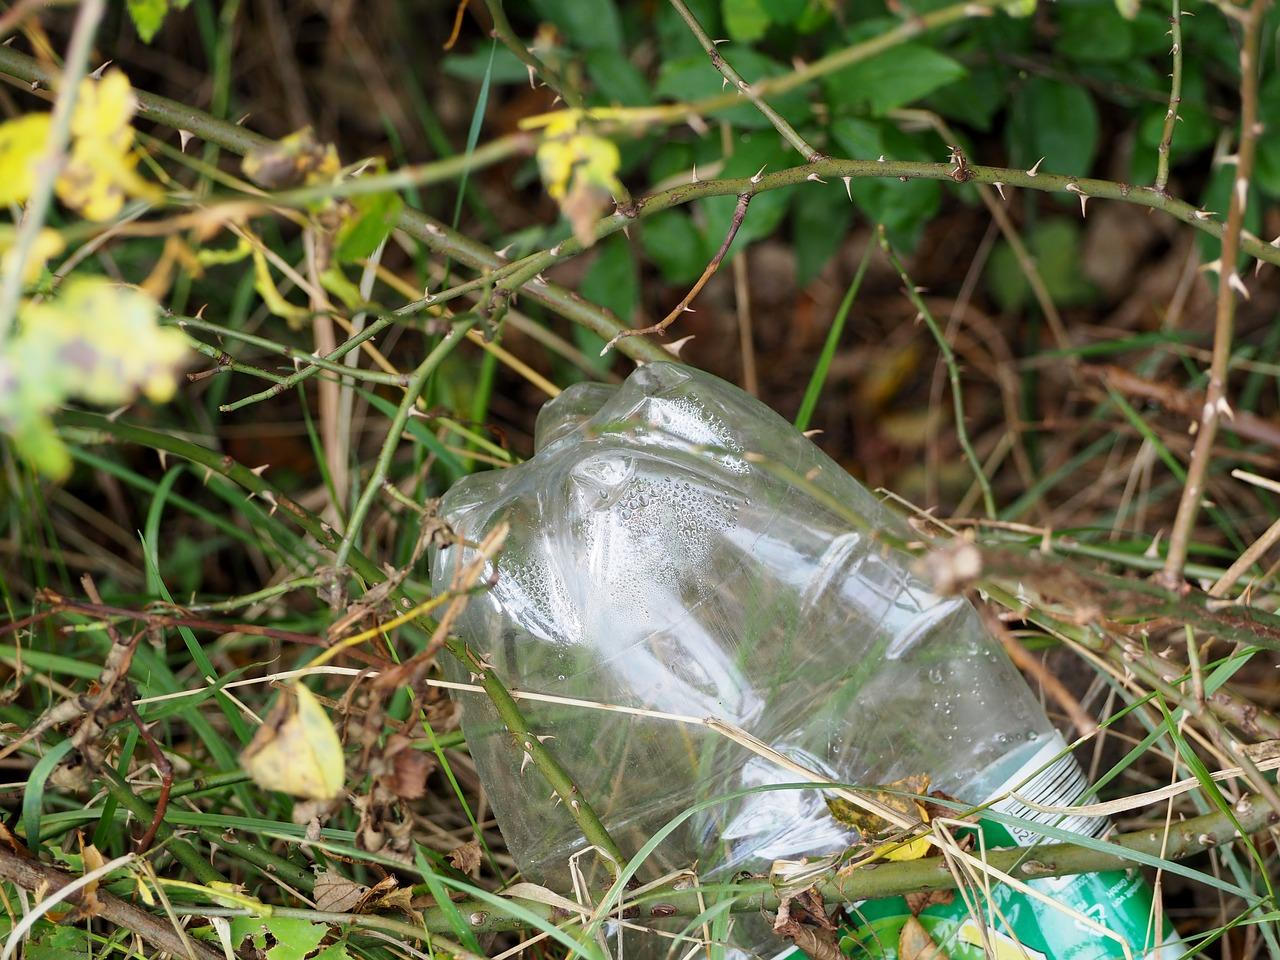bottle: (396, 301, 1125, 960)
